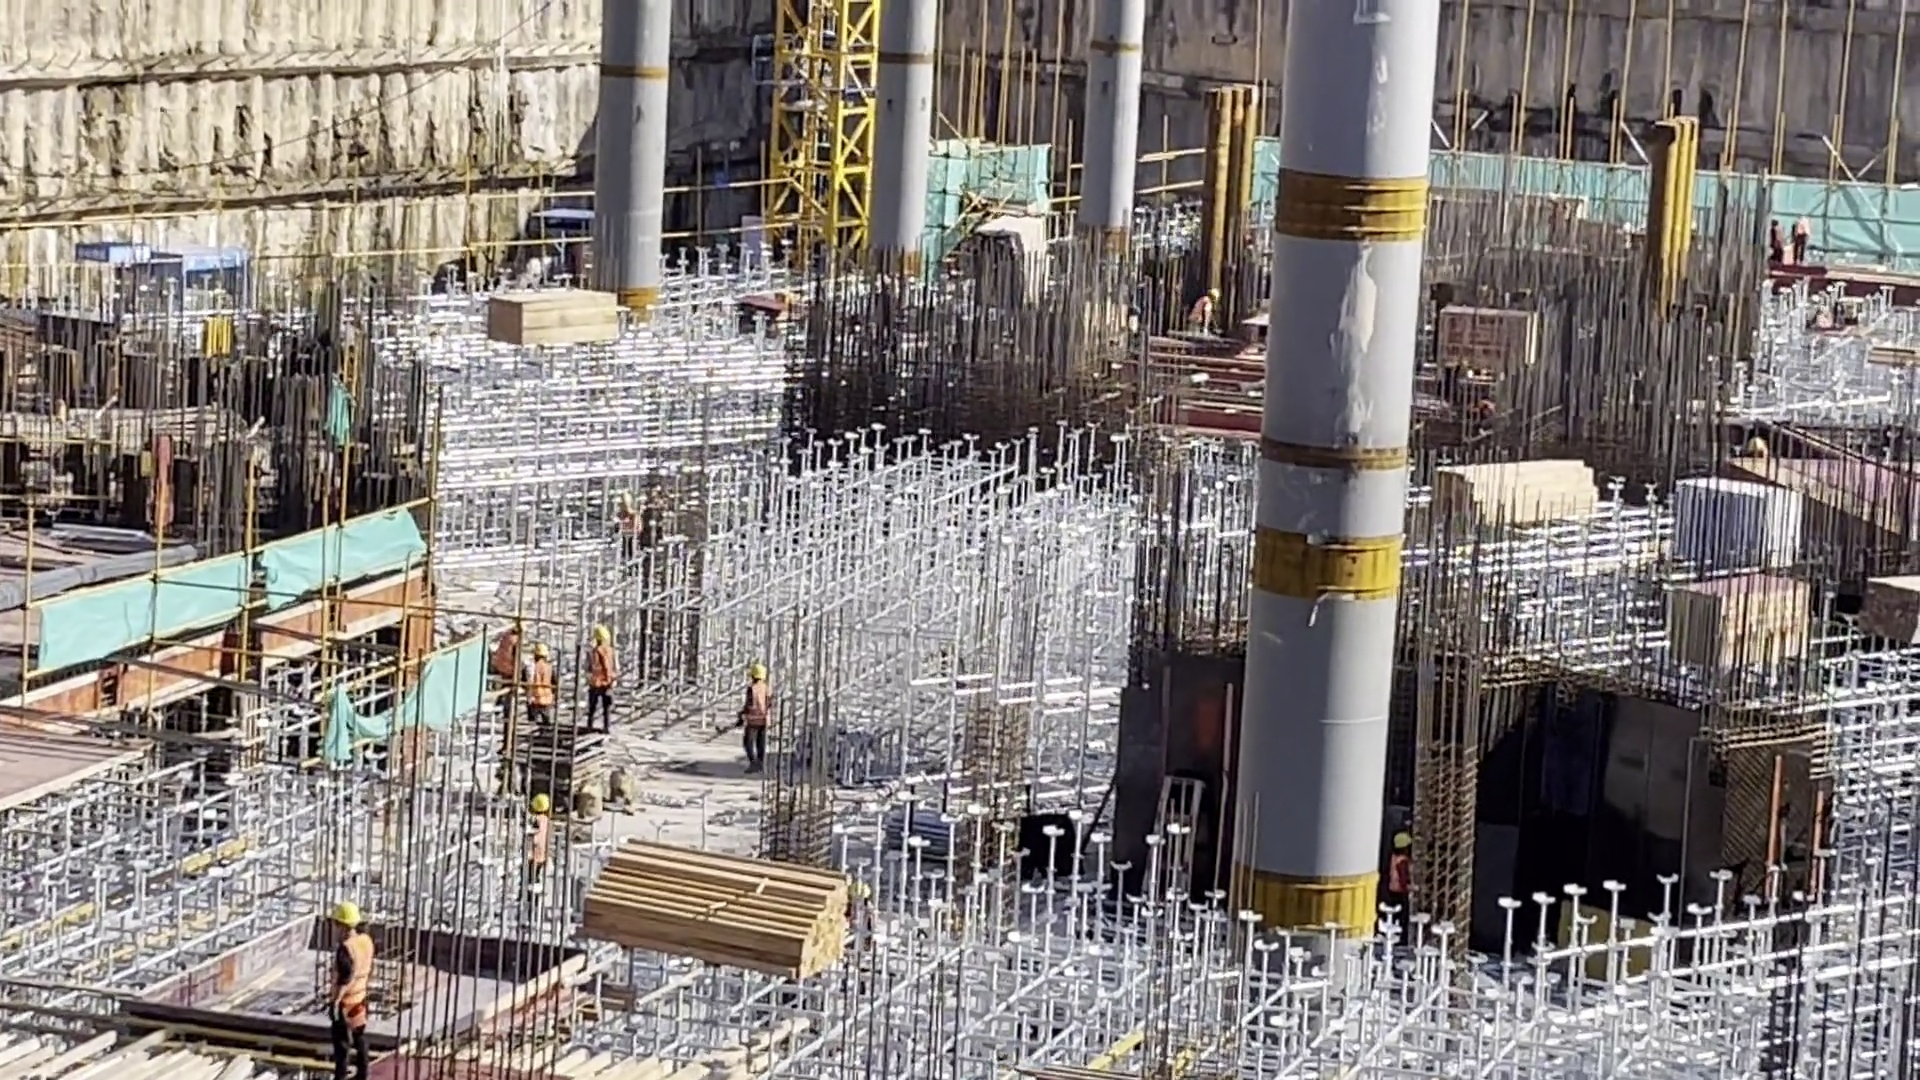helmet: (332, 902, 365, 930), (1392, 831, 1411, 850), (746, 665, 769, 680), (589, 628, 612, 641), (533, 642, 549, 654)
person: (331, 900, 375, 1080), (741, 661, 772, 774), (584, 622, 615, 725), (523, 795, 552, 894), (523, 643, 557, 719), (482, 623, 522, 682), (607, 488, 643, 550), (1390, 829, 1413, 909), (1189, 288, 1219, 334), (1791, 214, 1809, 268), (1769, 218, 1783, 264), (1746, 434, 1769, 454)
vest: (334, 932, 374, 1008), (586, 647, 612, 691), (534, 661, 557, 707), (746, 680, 770, 721), (1390, 855, 1410, 897), (1792, 218, 1810, 244)
